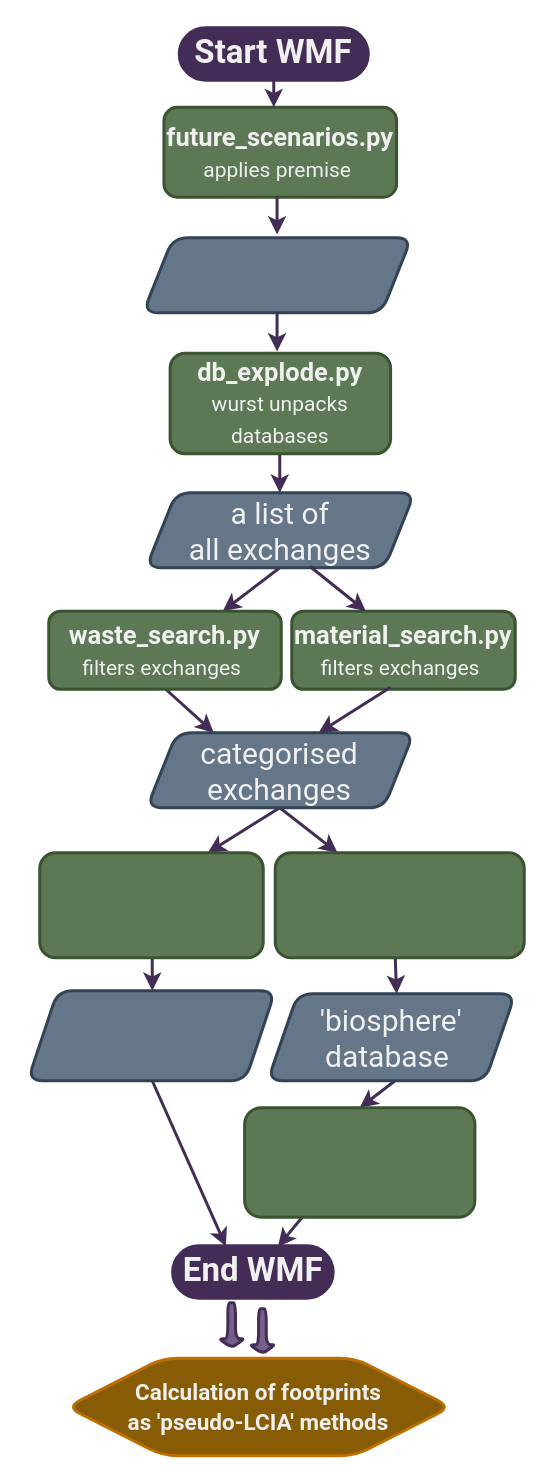
This 551x1482 diagram has some shape labels left out. Each missing label, with the centre of its shape:
"db_make_custom.py converts to database" belongs at (399,904).
"edited technosphere" belongs at (151,1035).
"exchange_editor.py uses bw2data" belongs at (151,904).
"method_editor.py custom waste methods" belongs at (359,1162).
"prospective databases" belongs at (276,275).
